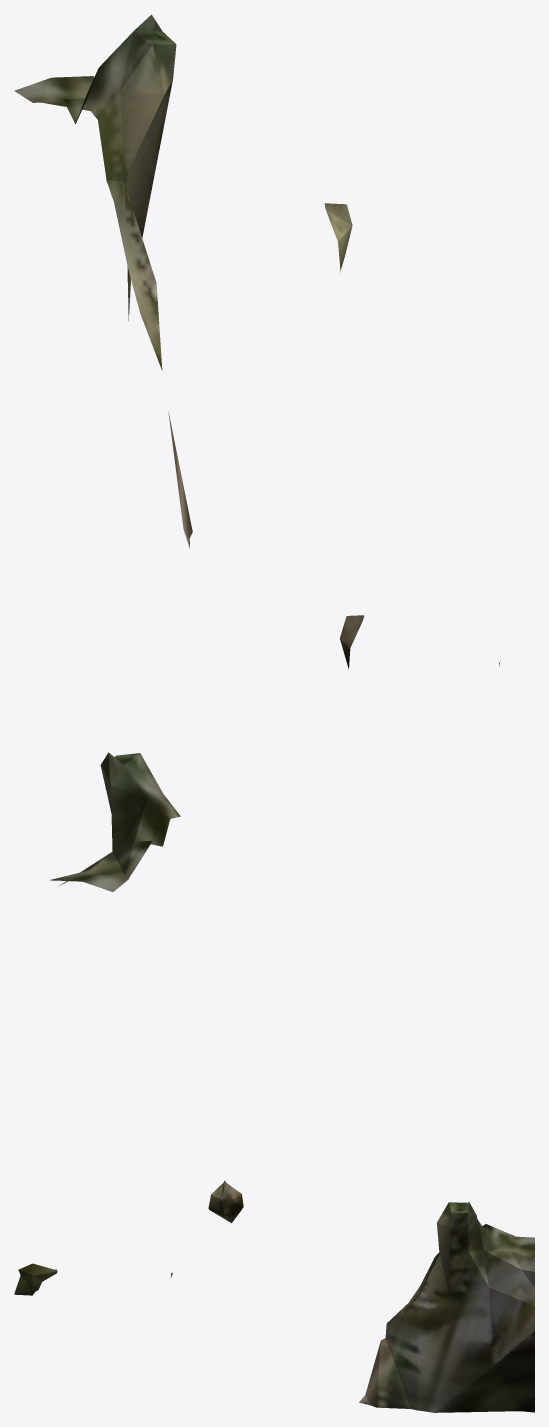
The picture shows the model from 3 angles, top to bottom: view 1: azimuth 30°, elevation 25°; view 2: azimuth 150°, elevation 25°; view 3: azimuth 270°, elevation 25°; orthographic projection. The views are drawn at different scales.
Bounding box in the file's own units: 0.1744 × 0.6065 × 1.29.
1 material, 1 textured.
